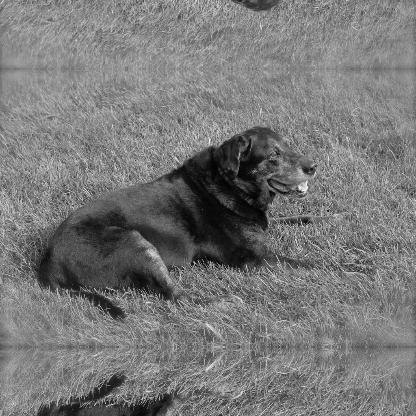Dog: (34, 124, 370, 320), (34, 372, 370, 415)
